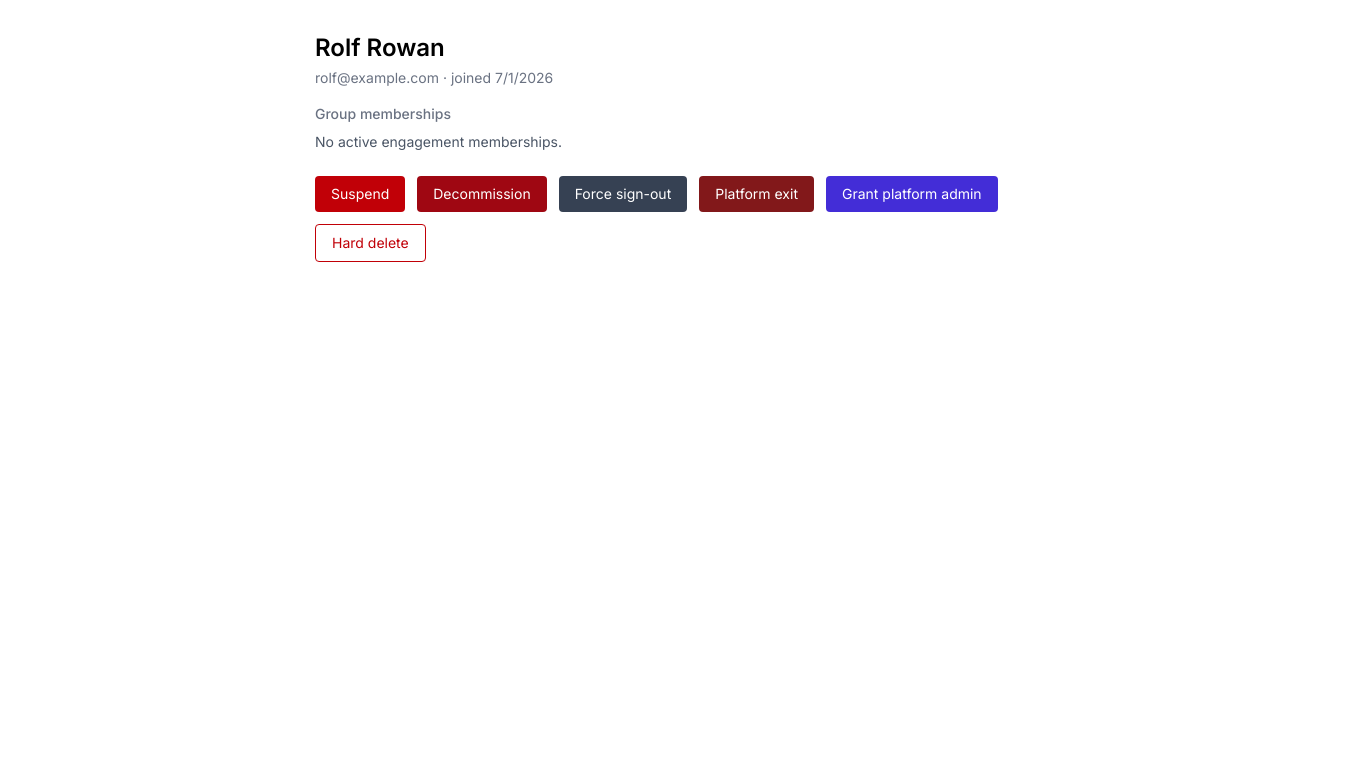
Test: AdminMemberDetail — Suspend / Reactivate require the reason (FEAT-H049 STORY-1) › the other ceremonies (decommission, force sign-out) carry no reason field — untouched (labelled pin)
Click the button with test id "decommission-member" at [482, 194], box [417,176,547,212]
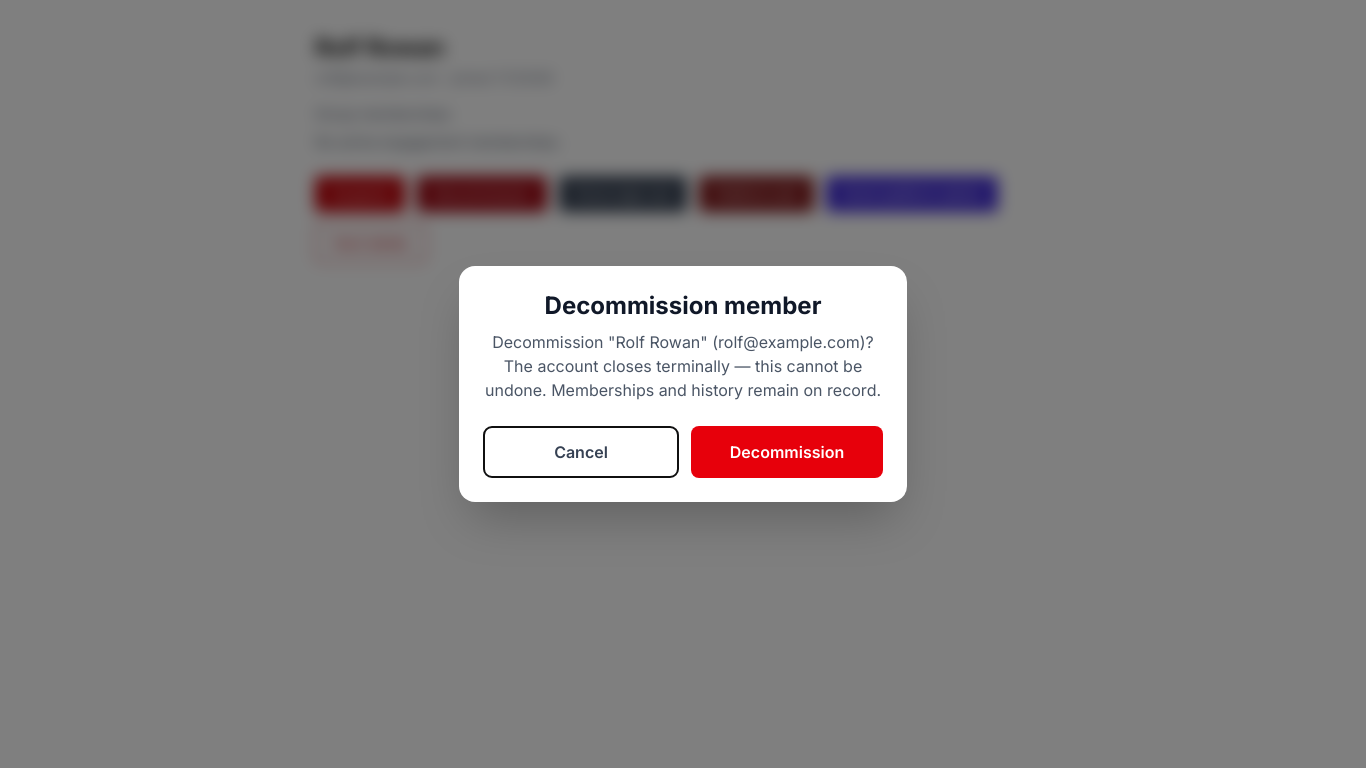
Result: the button with test id "confirm-modal-confirm" is enabled at [691,426,883,478]
